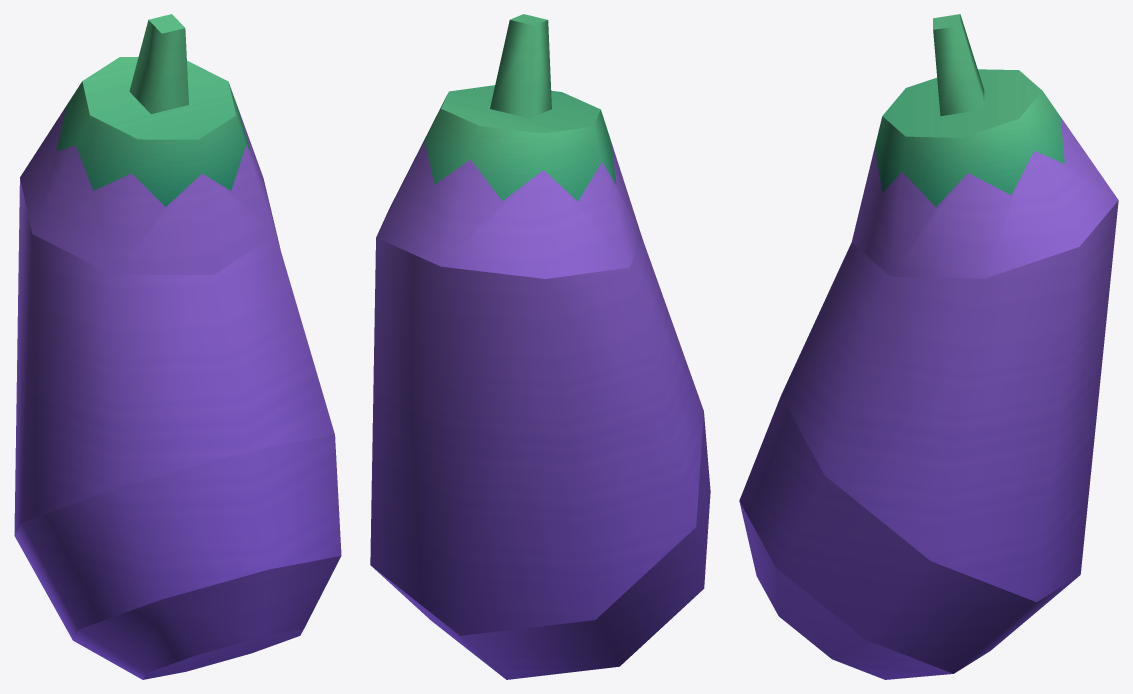
The model's file is eggplant.obj.
3 views of the same model, side by side, from view 1: azimuth 30°, elevation 25°; view 2: azimuth 150°, elevation 25°; view 3: azimuth 270°, elevation 25° (orthographic). The views are drawn at different scales.
Visible parts, largest first — view 1: eggplant; view 2: eggplant; view 3: eggplant.
Boxes of the visible parts, x1=… form: eggplant: x1=14, y1=14, x2=341, y2=679; eggplant: x1=370, y1=14, x2=710, y2=679; eggplant: x1=739, y1=14, x2=1118, y2=679.
Size of the model in its own units: 0.204 by 0.4052 by 0.2156.
Materials: 1 (1 with a texture image).
